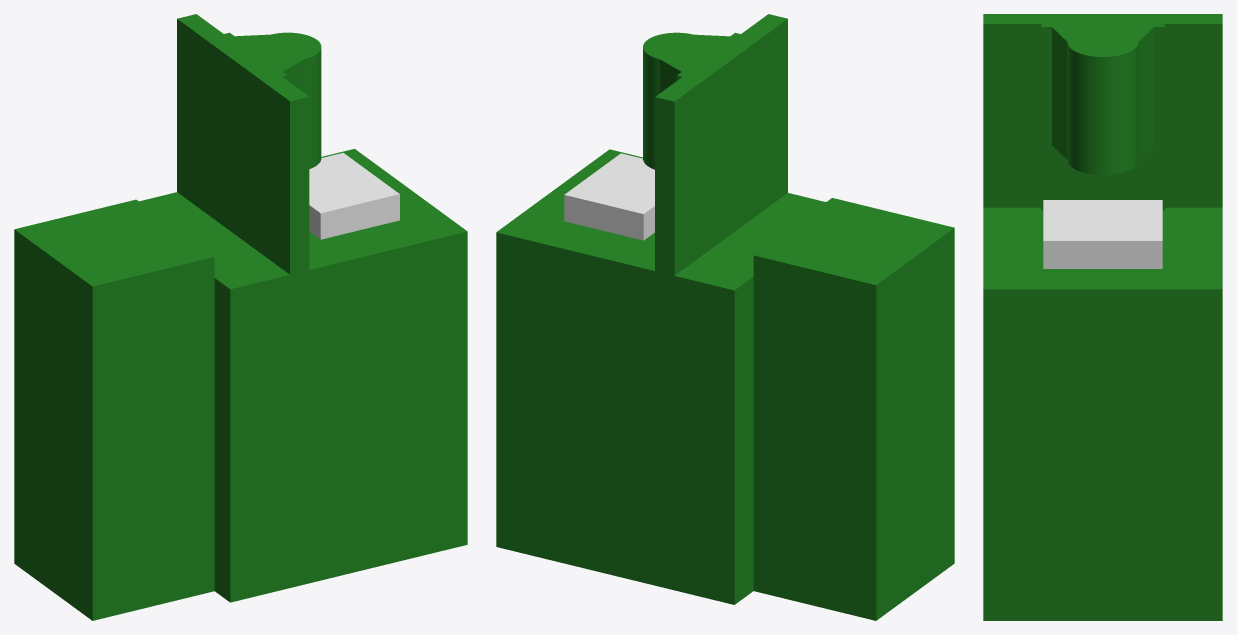
File: multiejes.obj
3 views of the same model, side by side, from view 1: azimuth 30°, elevation 25°; view 2: azimuth 150°, elevation 25°; view 3: azimuth 270°, elevation 25° (orthographic). The views are drawn at different scales.
Visible parts, largest first — view 1: Sólido1; view 2: Sólido1; view 3: Sólido1.
Part boxes in pixels (x1,y1,x2,y2): Sólido1: (14,14,467,620); Sólido1: (496,14,954,620); Sólido1: (983,14,1222,620).
Size of the model in its own units: 1855 by 2400 by 1010.
